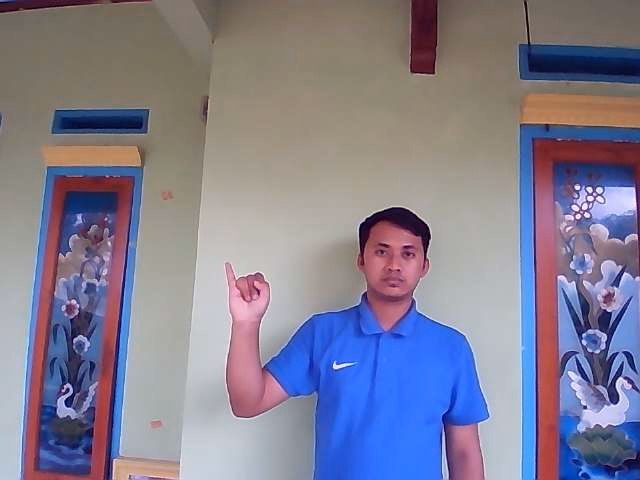I: (224, 260, 271, 320)
